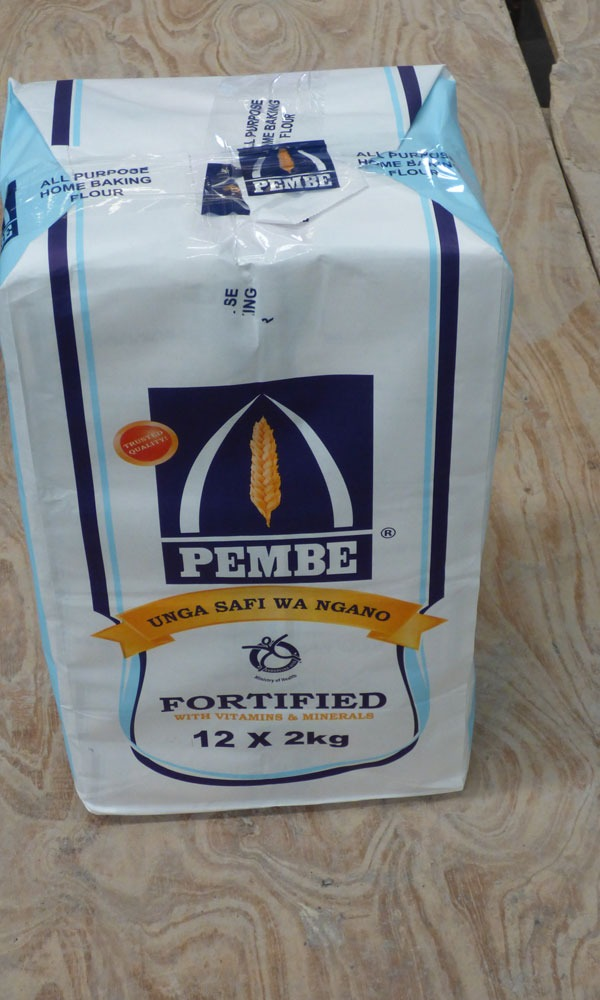wheat_flour_blue_label: (9, 60, 505, 810)
